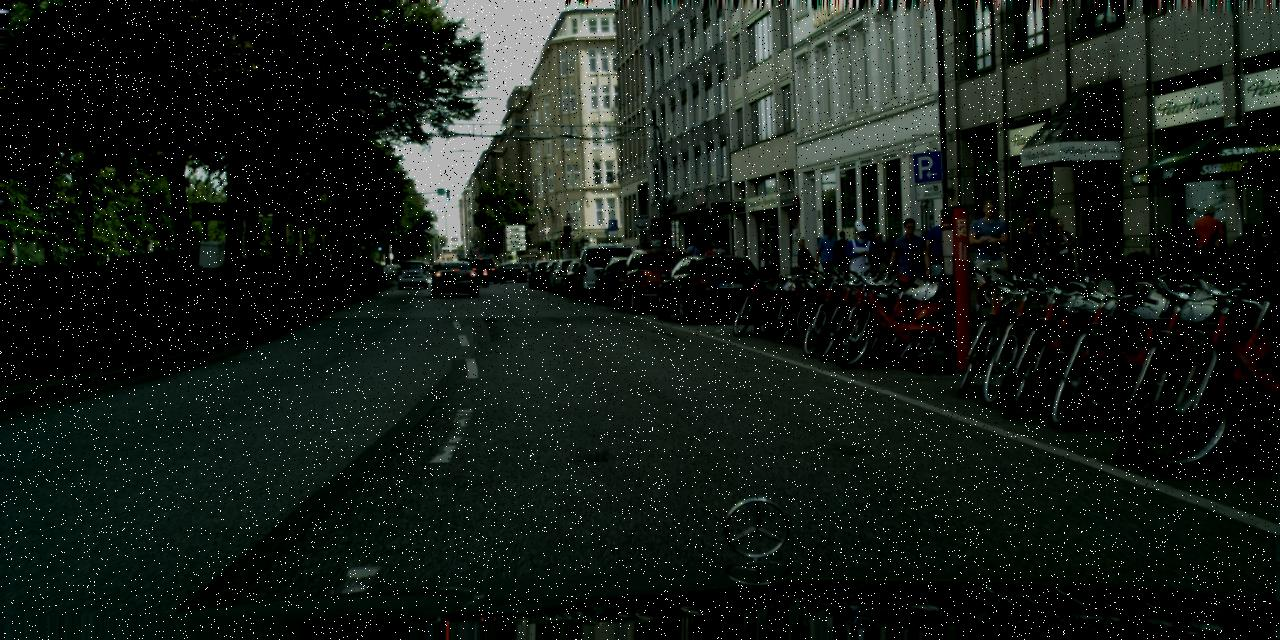ped: (964, 200, 1011, 316), (888, 217, 929, 319), (923, 209, 962, 304), (842, 218, 876, 304), (1190, 205, 1224, 289), (1044, 217, 1077, 299), (1016, 216, 1048, 295), (816, 227, 842, 292), (867, 232, 891, 290), (791, 238, 813, 293), (832, 230, 852, 280), (756, 240, 772, 280), (704, 242, 720, 280), (698, 240, 713, 278), (702, 242, 716, 280), (713, 243, 728, 278), (684, 240, 698, 274)
